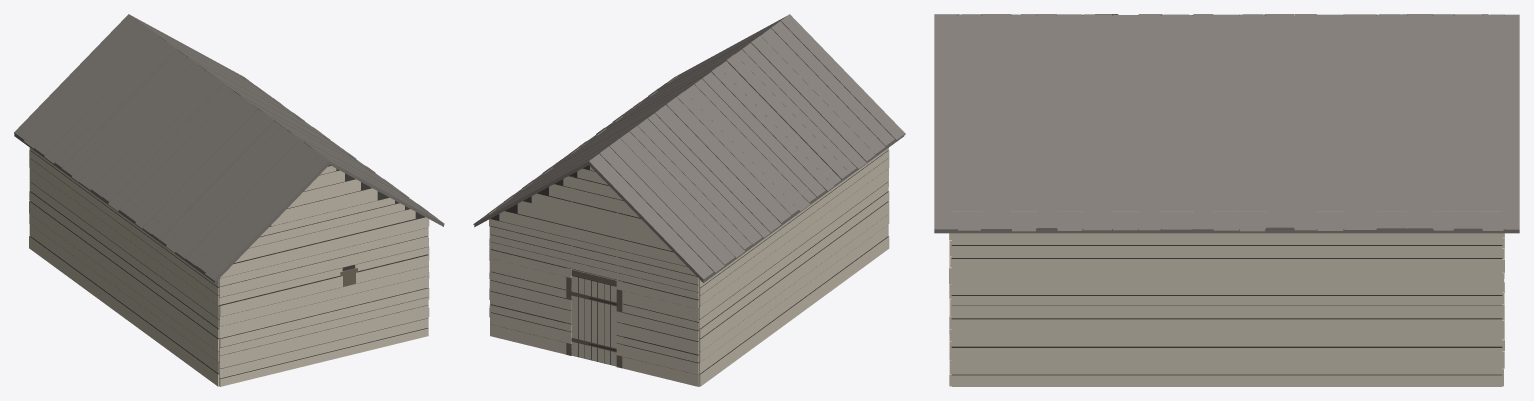
The model's file is recon_1835_canal_trade_w2_004__inferred_1835.glb.
3 views of the same model, side by side, from view 1: azimuth 30°, elevation 25°; view 2: azimuth 150°, elevation 25°; view 3: azimuth 270°, elevation 25° (orthographic). The views are drawn at different scales.
Parts seen in each view (by area): view 1: recon_1835_canal_trade_w2_004__inferred_1835; view 2: recon_1835_canal_trade_w2_004__inferred_1835; view 3: recon_1835_canal_trade_w2_004__inferred_1835.
Part boxes in pixels (x1,y1,x2,y2): recon_1835_canal_trade_w2_004__inferred_1835: (14,14,444,386); recon_1835_canal_trade_w2_004__inferred_1835: (473,14,905,386); recon_1835_canal_trade_w2_004__inferred_1835: (934,14,1519,386).
Bounding box in the file's own units: 6.94 × 5.84 × 10.38.
